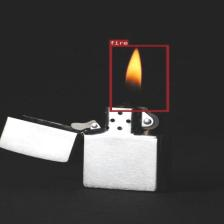fire: (110, 44, 168, 111)
